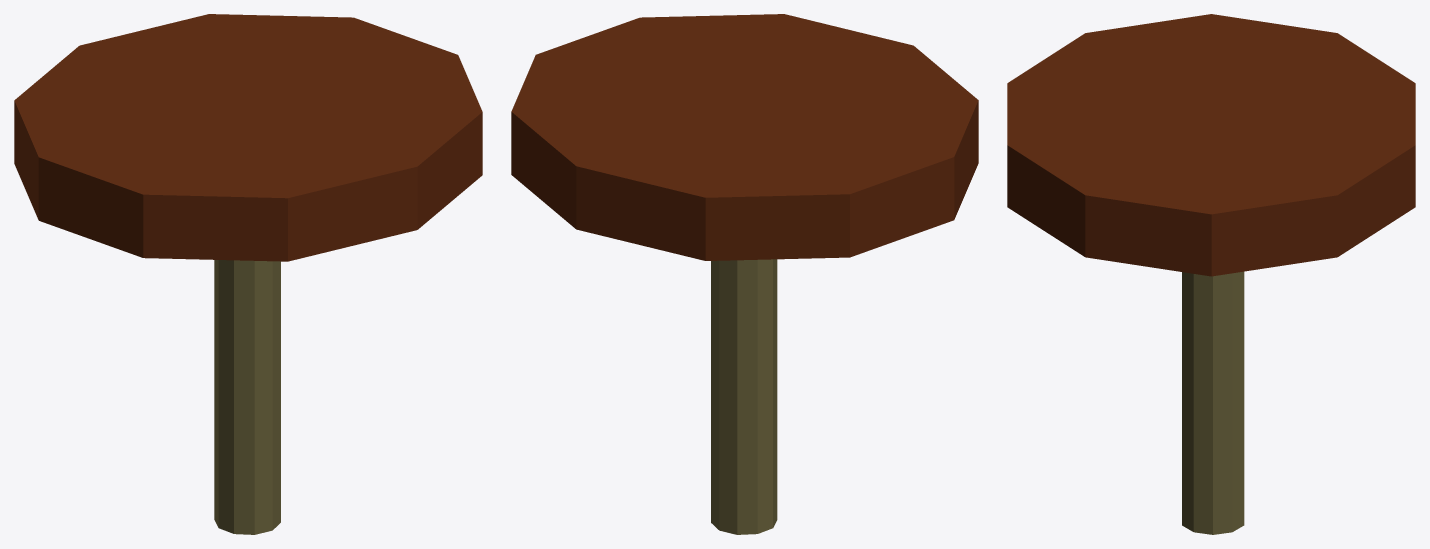
The model's file is mushroom.fbx.
3 renders of one model, left to right at view 1: azimuth 30°, elevation 25°; view 2: azimuth 150°, elevation 25°; view 3: azimuth 270°, elevation 25°, orthographic. The views are drawn at different scales.
Visible parts, largest first — view 1: mushroomTop1, mushroomStem; view 2: mushroomTop1, mushroomStem; view 3: mushroomTop1, mushroomStem.
Part boxes in pixels (x1,y1,x2,y2): mushroomTop1: (14, 14, 482, 261); mushroomStem: (214, 260, 280, 534); mushroomTop1: (511, 14, 978, 260); mushroomStem: (711, 259, 777, 534); mushroomTop1: (1007, 14, 1415, 276); mushroomStem: (1182, 271, 1244, 534).
Size of the model in its own units: 8.31 by 7.86 by 7.15.
